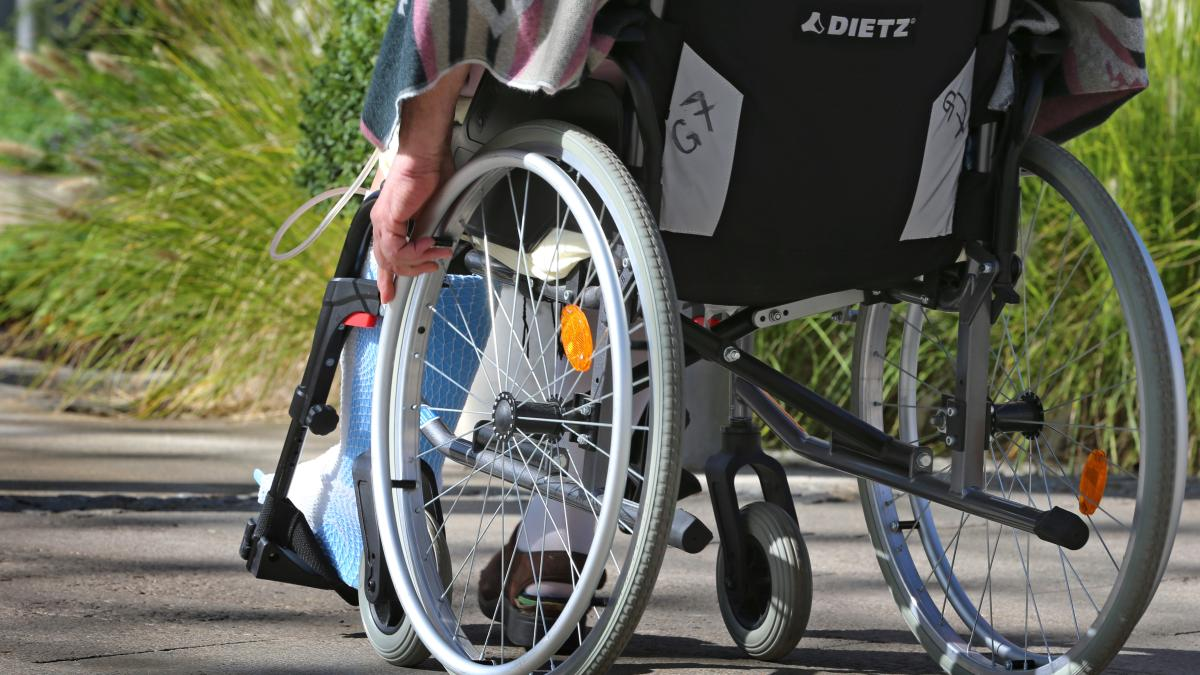wheelchair: (275, 105, 1181, 669)
